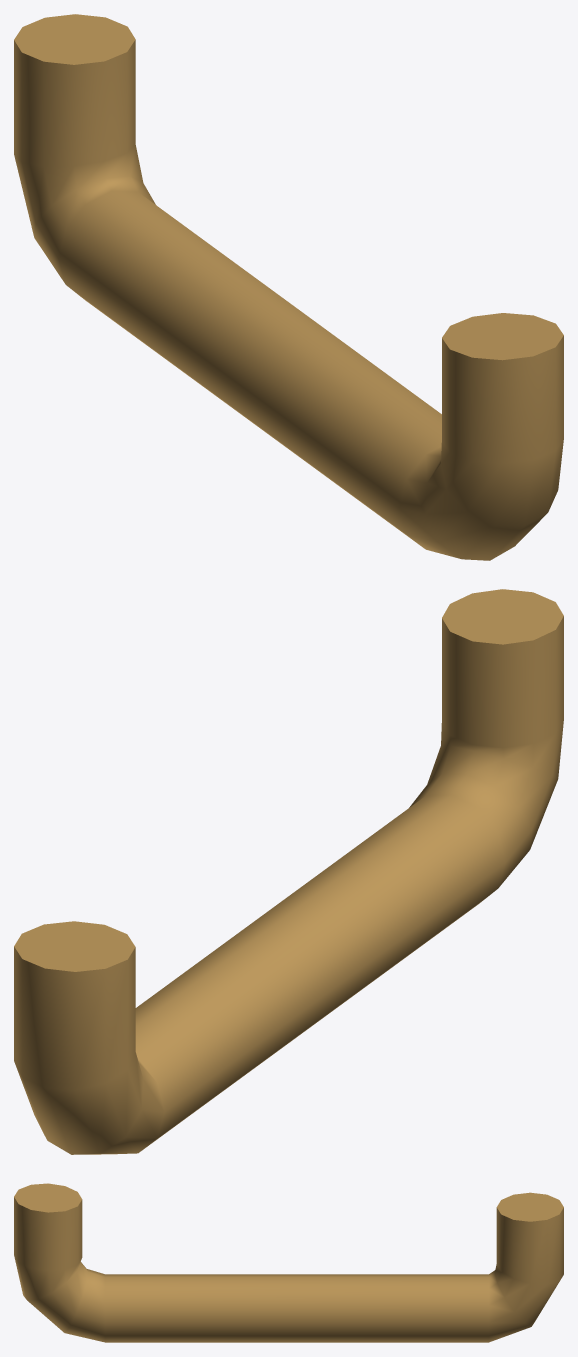
The model's file is pipe_small.fbx.
3 renders of one model, top to bottom at view 1: azimuth 30°, elevation 25°; view 2: azimuth 150°, elevation 25°; view 3: azimuth 270°, elevation 25°, orthographic. The views are drawn at different scales.
Visible parts, largest first — view 1: pCylinder1; view 2: pCylinder1; view 3: pCylinder1.
Boxes of the visible parts, x1,y1,x2,y2 form: pCylinder1: (14,14,563,560); pCylinder1: (14,589,563,1154); pCylinder1: (14,1183,563,1342).
Bounding box in the file's own units: 33.62 × 76.83 × 268.
